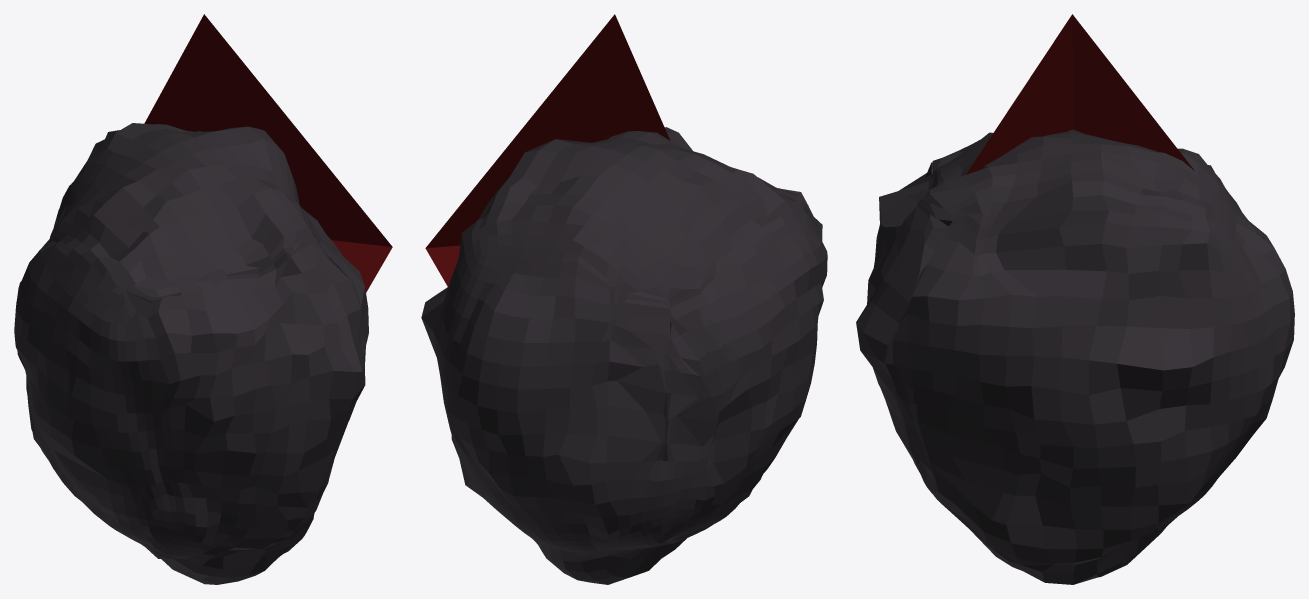
File: firstEnemy.fbx
The picture shows the model from 3 angles, left to right: view 1: azimuth 30°, elevation 25°; view 2: azimuth 150°, elevation 25°; view 3: azimuth 270°, elevation 25°; orthographic projection.
Parts seen in each view (by area): view 1: Cube.001, Cube; view 2: Cube.001, Cube; view 3: Cube.001, Cube.
Part boxes in pixels (x1=…): Cube.001: x1=14, y1=123, x2=368, y2=584; Cube: x1=144, y1=14, x2=392, y2=292; Cube.001: x1=421, y1=127, x2=827, y2=584; Cube: x1=425, y1=14, x2=670, y2=286; Cube.001: x1=856, y1=129, x2=1294, y2=584; Cube: x1=966, y1=14, x2=1194, y2=174.
Bounding box in the file's own units: 270 × 402 × 286.
